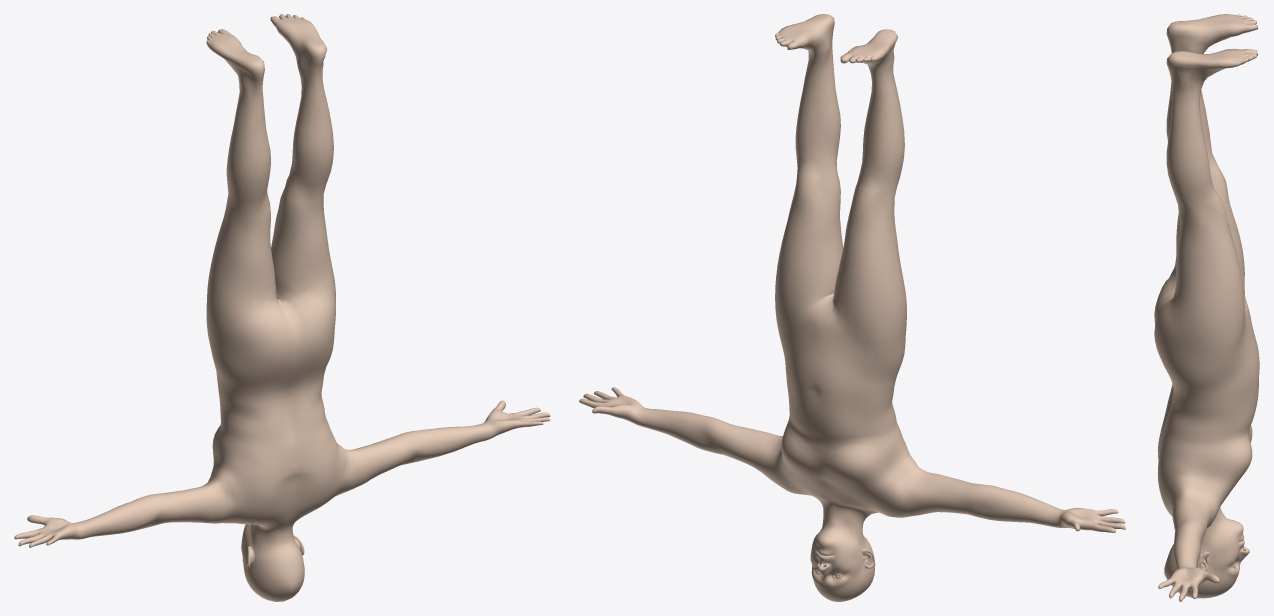
The model's file is idle-neutral.glb.
The picture shows the model from 3 angles, left to right: view 1: azimuth 30°, elevation 25°; view 2: azimuth 150°, elevation 25°; view 3: azimuth 270°, elevation 25°; orthographic projection.
Size of the model in its own units: 1.72 by 1.72 by 0.294.
